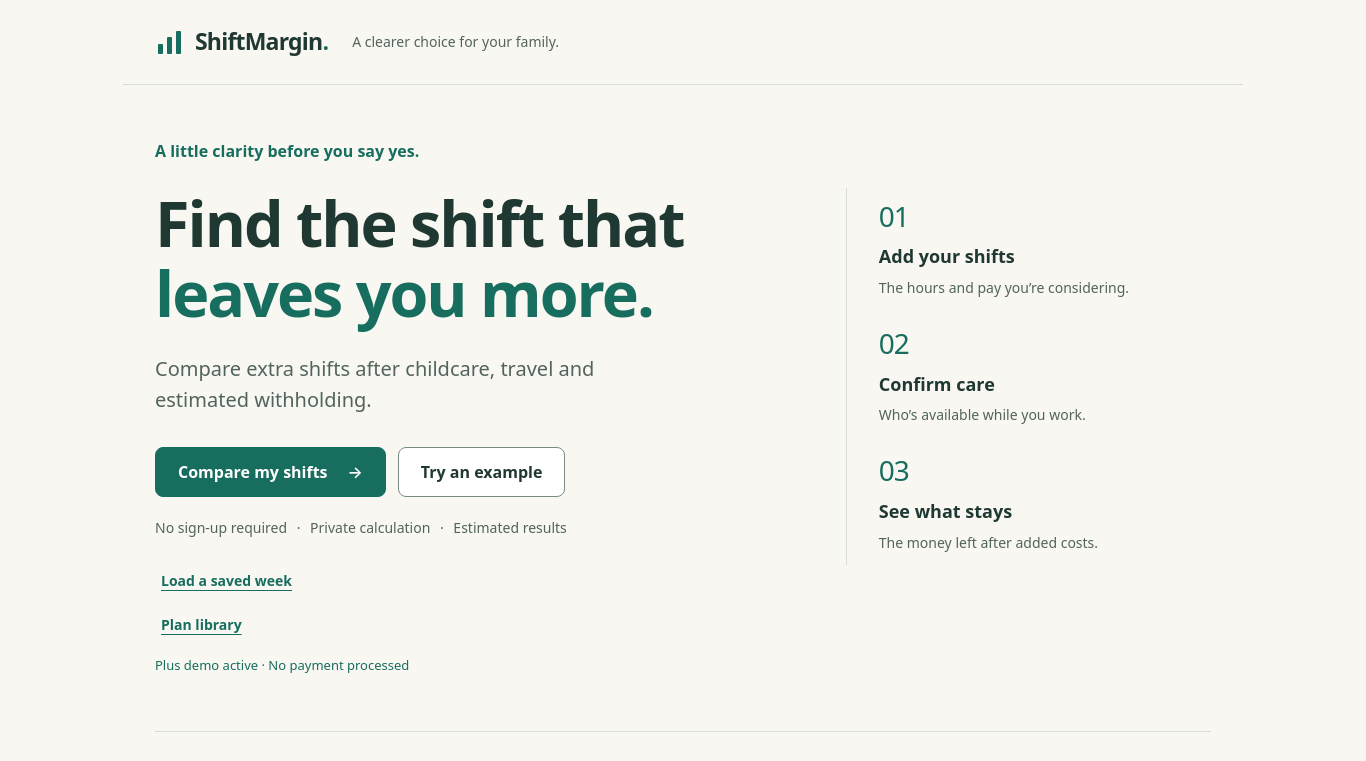
Test: Free and functional Plus Demo journeys › does not overwrite a library changed by another tab
Click the button "Plan library": (201, 625) x1=155 y1=603 x2=248 y2=647
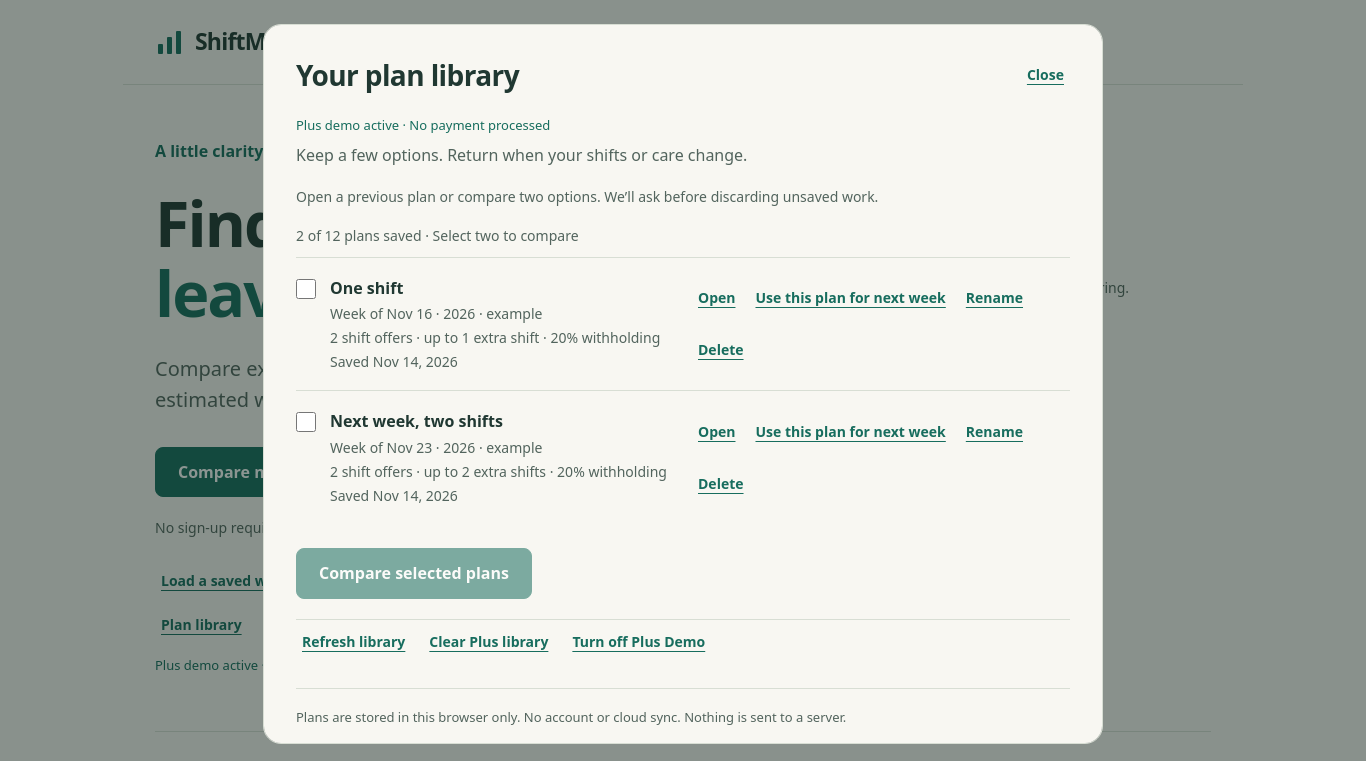
Click the button with aria-label "Rename One shift": (994, 298) x1=960 y1=276 x2=1029 y2=320
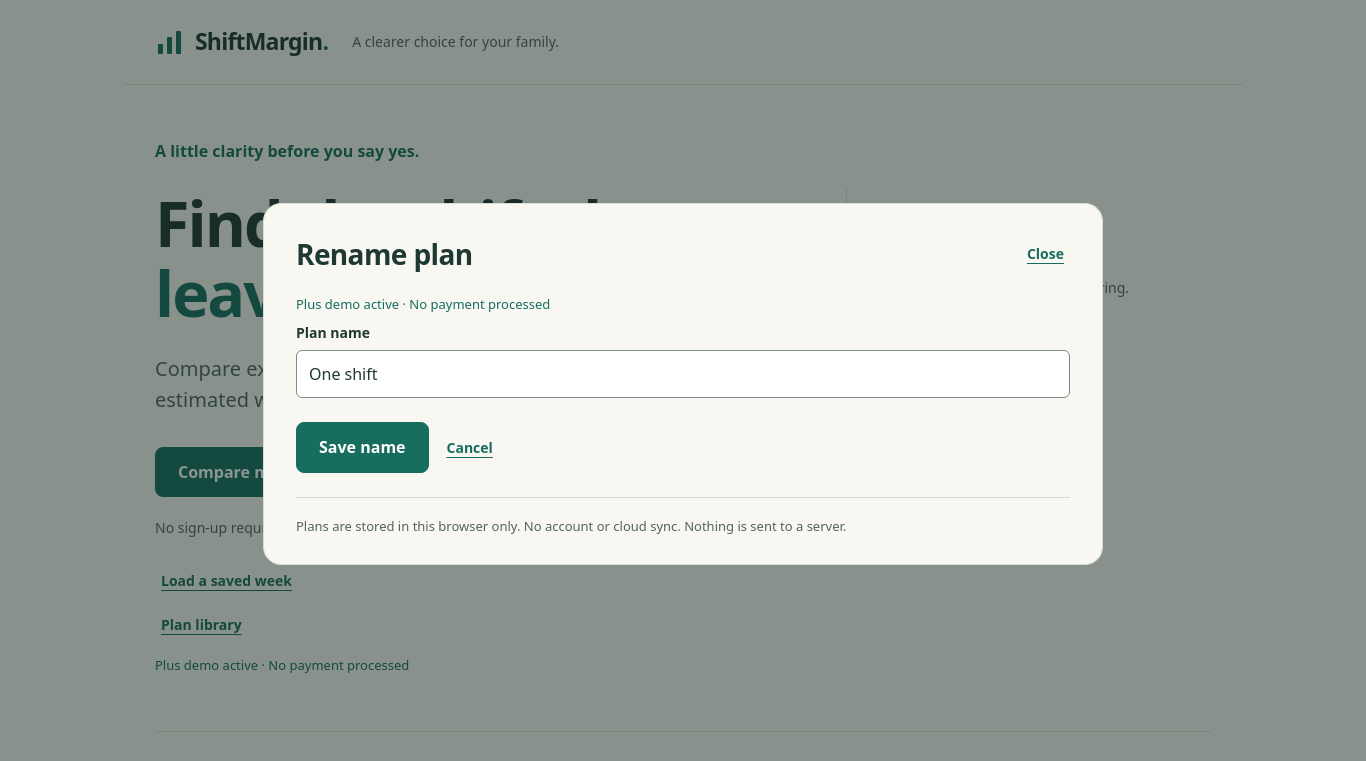
Replace the text in the field labelled "Plan name" with "Changed name": (683, 374) x1=296 y1=350 x2=1070 y2=398
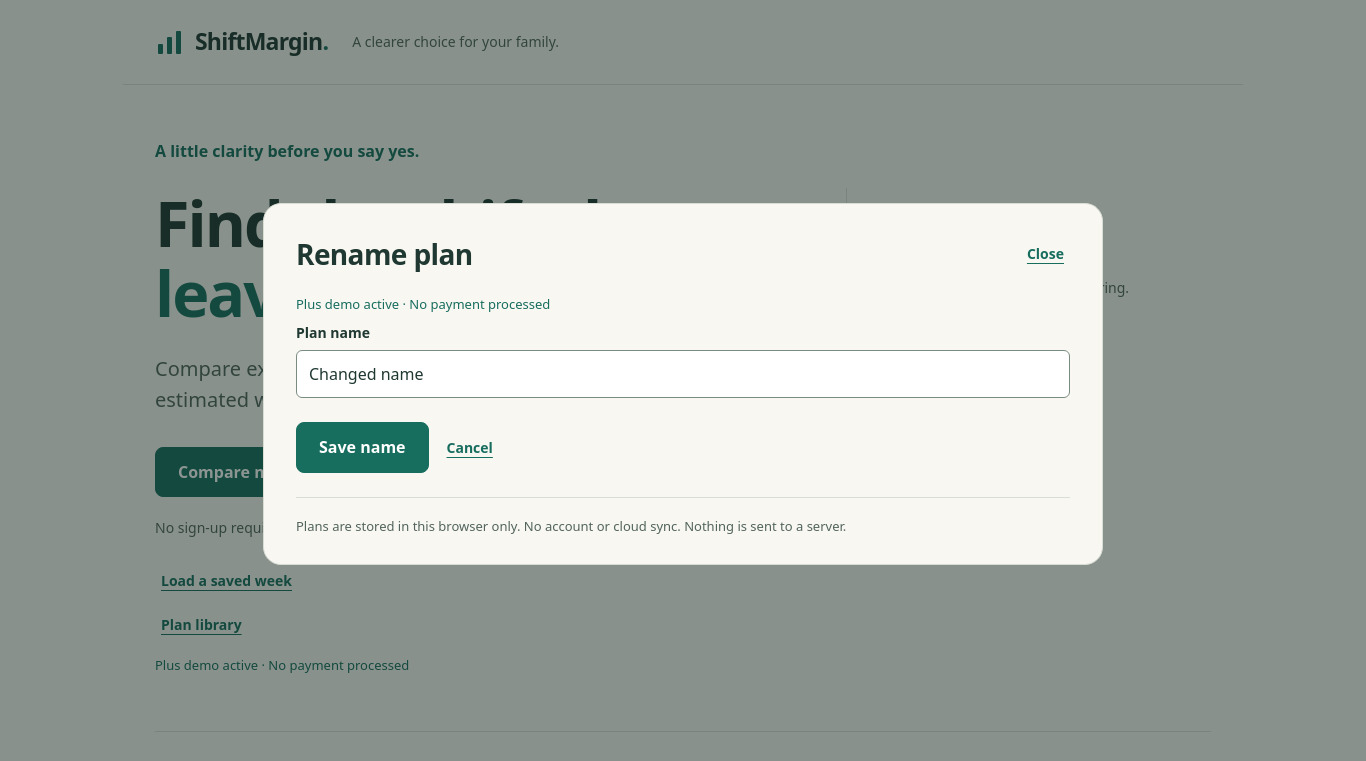
Click the button "Save name": (362, 448) x1=296 y1=422 x2=428 y2=473
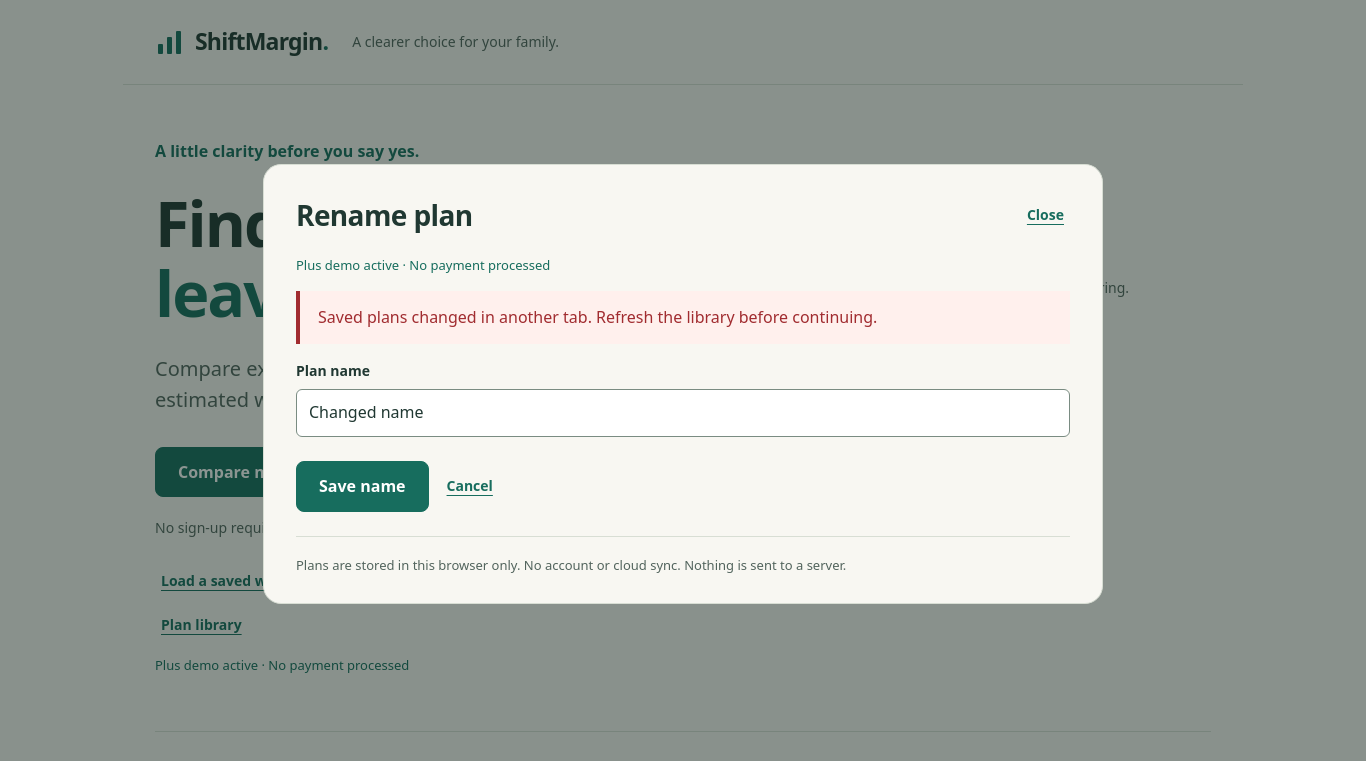
Check: the message shows "another tab", box x1=318 y1=306 x2=877 y2=328
